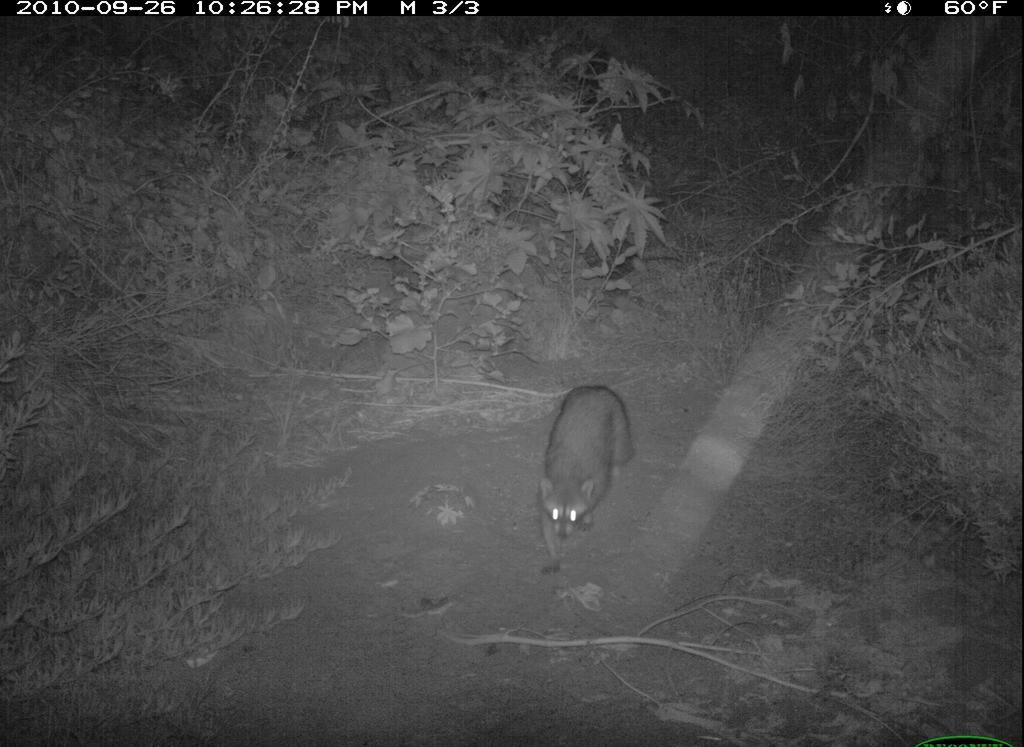raccoon: (521, 381, 646, 585)
